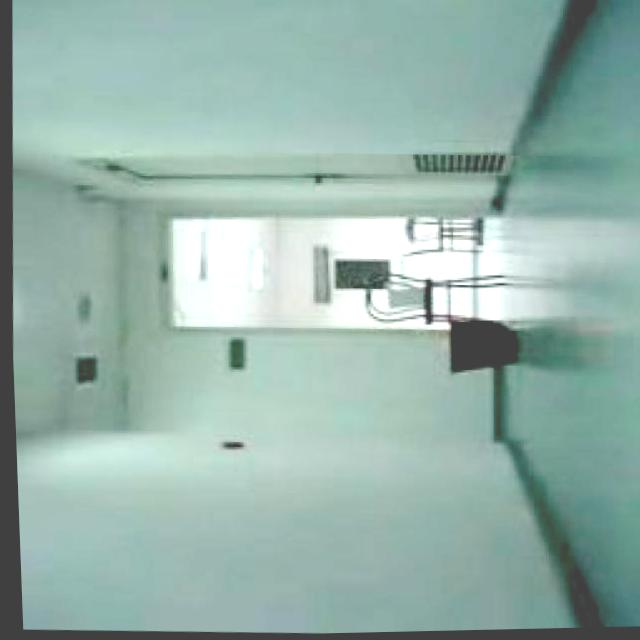helmet: (427, 318, 447, 339)
